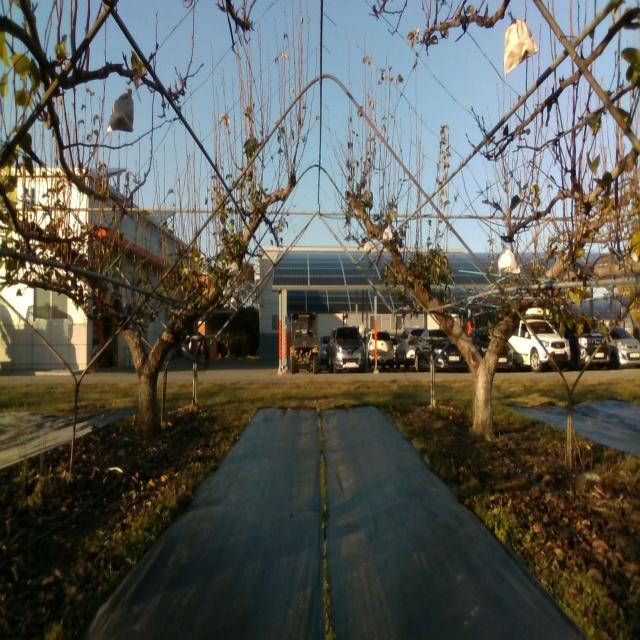pearbags: (502, 10, 538, 74), (107, 87, 134, 132), (498, 242, 521, 274)
